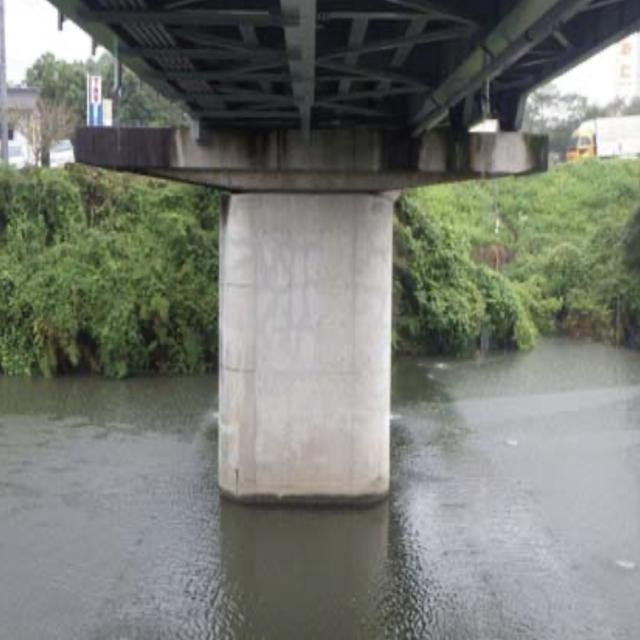leakage: (87, 133, 566, 178)
